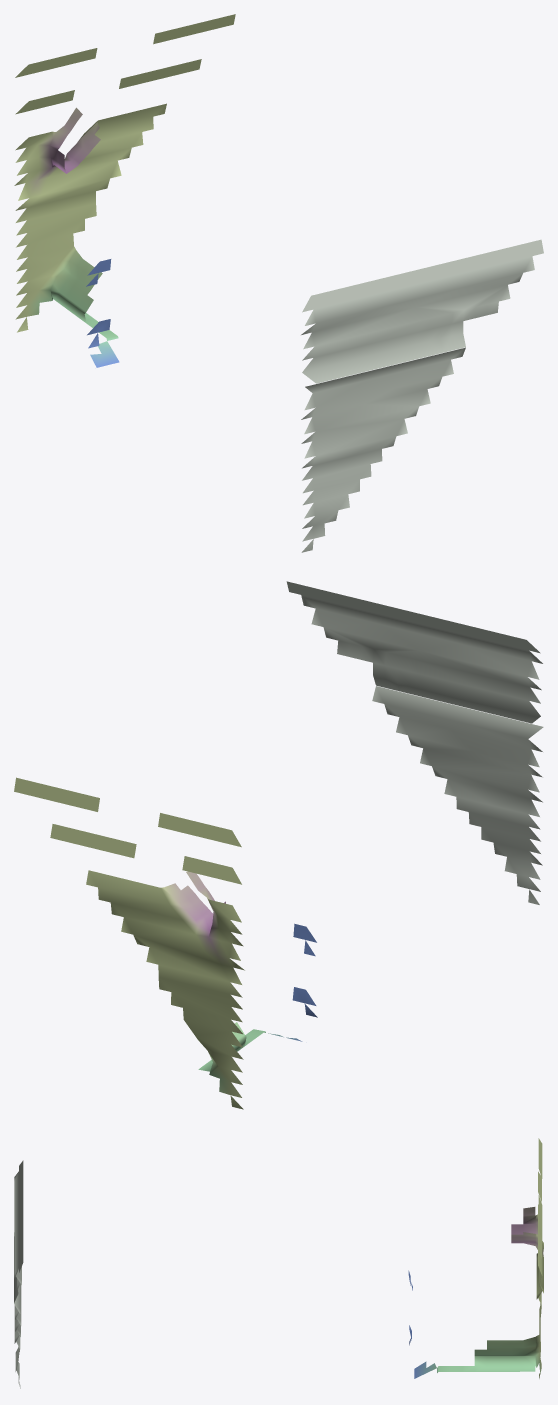
File: tile_7e4ccbd5fe0e_0_1_0_0_lod1.glb
3 renders of one model, top to bottom at view 1: azimuth 30°, elevation 25°; view 2: azimuth 150°, elevation 25°; view 3: azimuth 270°, elevation 25°, orthographic. The views are drawn at different scales.
Bounding box in the file's own units: 1.68 × 1.84 × 3.5.
